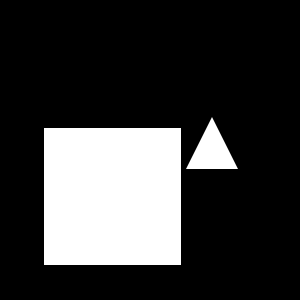circle: (44, 128, 181, 265)
triangle: (186, 117, 238, 169)
